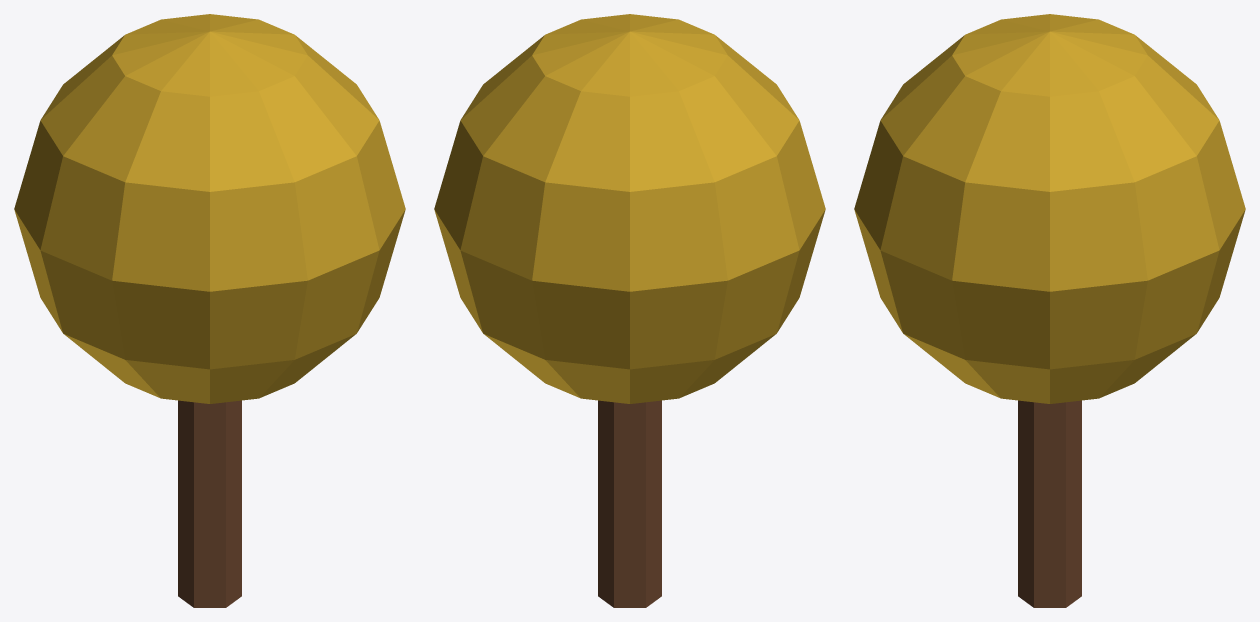
The model's file is tree_yellow.glb.
3 views of the same model, side by side, from view 1: azimuth 30°, elevation 25°; view 2: azimuth 150°, elevation 25°; view 3: azimuth 270°, elevation 25° (orthographic).
Visible parts, largest first — view 1: tree_yellow; view 2: tree_yellow; view 3: tree_yellow.
Part boxes in pixels (box(x1,y1,x2,y2)): tree_yellow: box(14, 14, 405, 607); tree_yellow: box(434, 14, 825, 607); tree_yellow: box(854, 14, 1245, 607).
Size of the model in its own units: 0.22 by 0.35 by 0.22.
